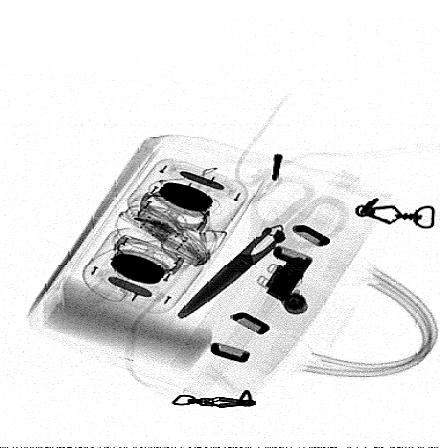Scissors: (175, 174, 348, 321)
